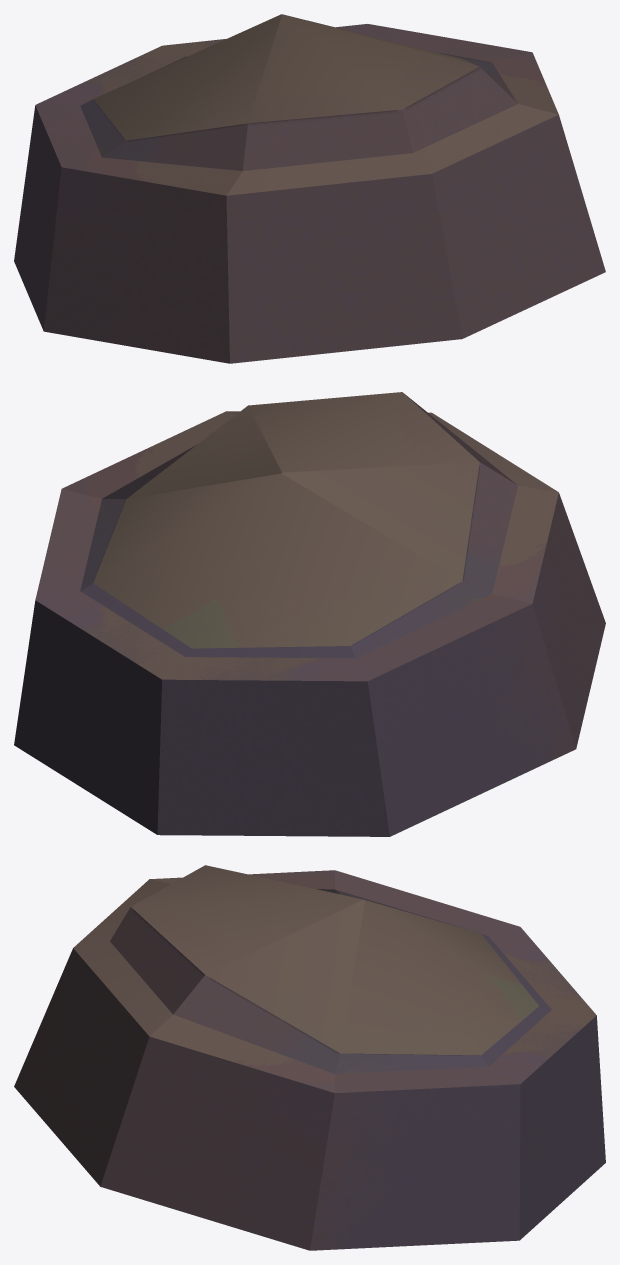
The model's file is Player Hat.fbx.
3 renders of one model, top to bottom at view 1: azimuth 30°, elevation 25°; view 2: azimuth 150°, elevation 25°; view 3: azimuth 270°, elevation 25°, orthographic. The views are drawn at different scales.
Parts seen in each view (by area): view 1: Player_Hat; view 2: Player_Hat; view 3: Player_Hat.
Part boxes in pixels (x1=…): Player_Hat: x1=14, y1=14, x2=605, y2=363; Player_Hat: x1=14, y1=392, x2=605, y2=836; Player_Hat: x1=14, y1=865, x2=605, y2=1250.
Size of the model in its own units: 30.71 by 14.95 by 30.48.
